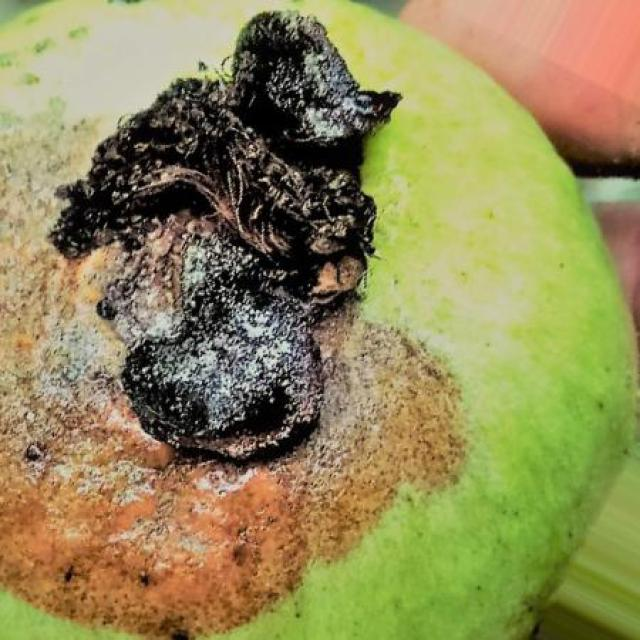Styler and Root: (0, 0, 635, 640)
